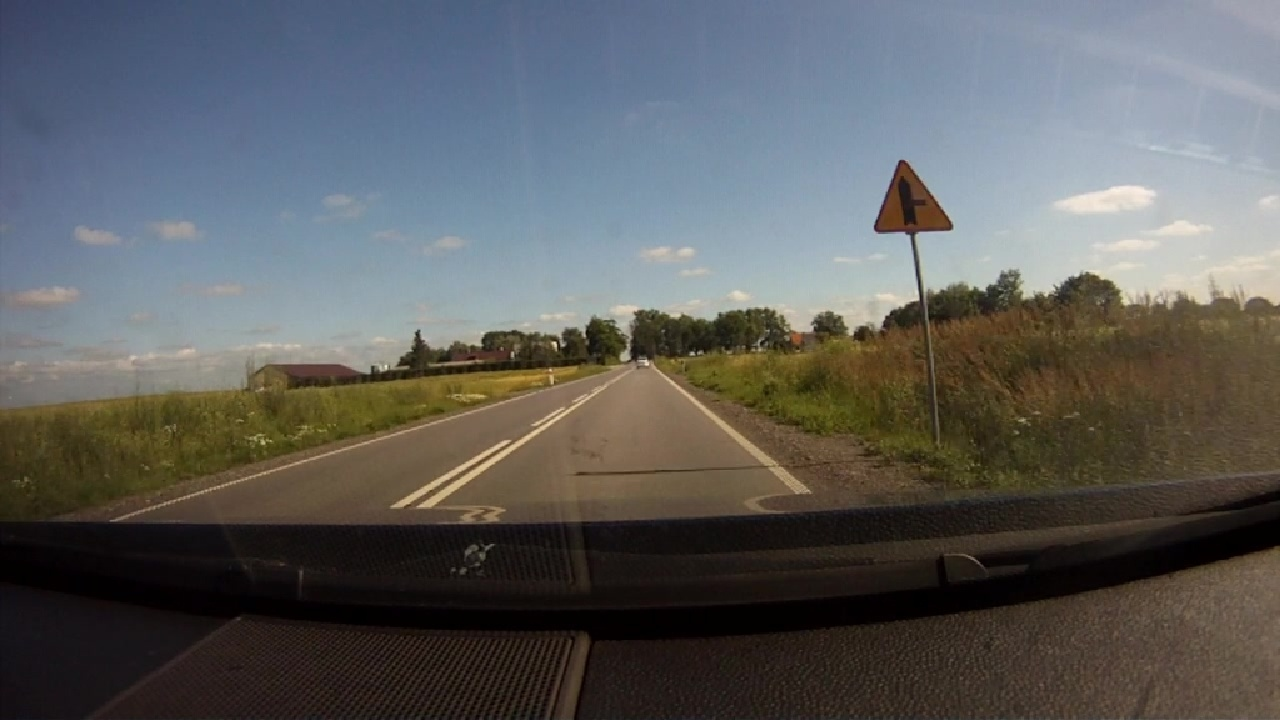A6b: (873, 160, 954, 234)
